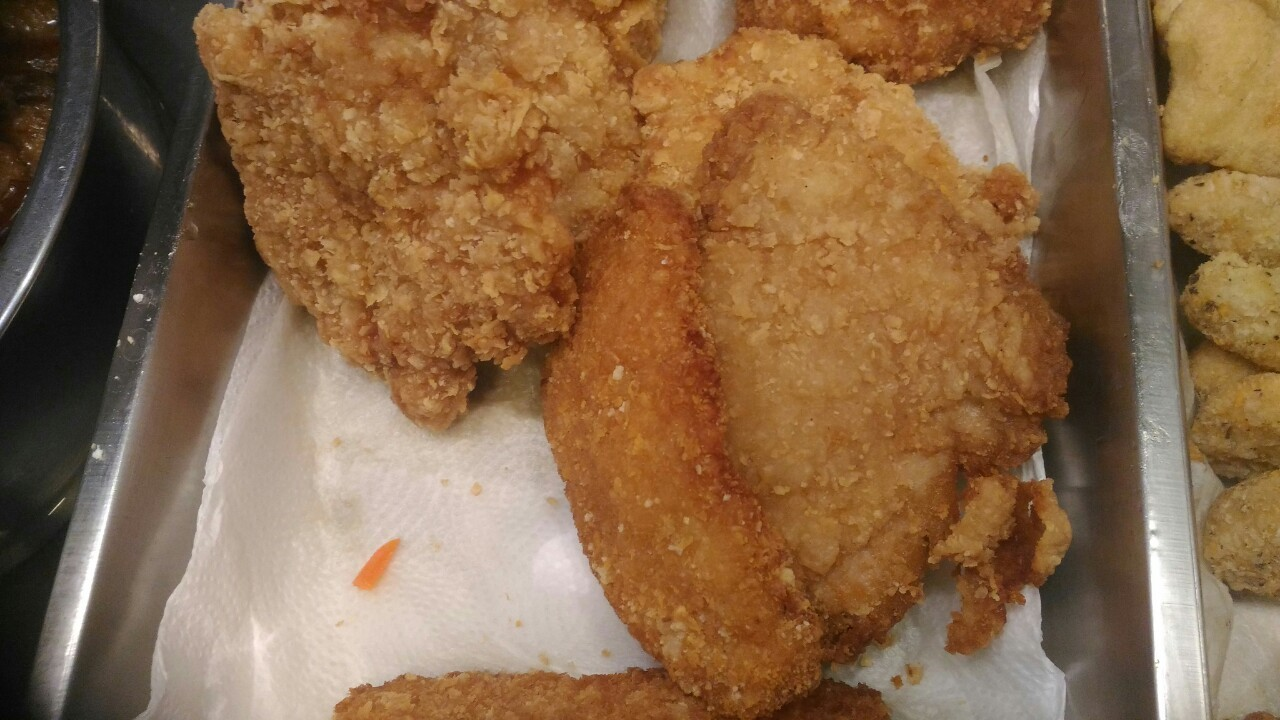chicken_nuggets: (1148, 1, 1280, 186)
fried_chicken: (658, 34, 1088, 642), (192, 1, 666, 441)
